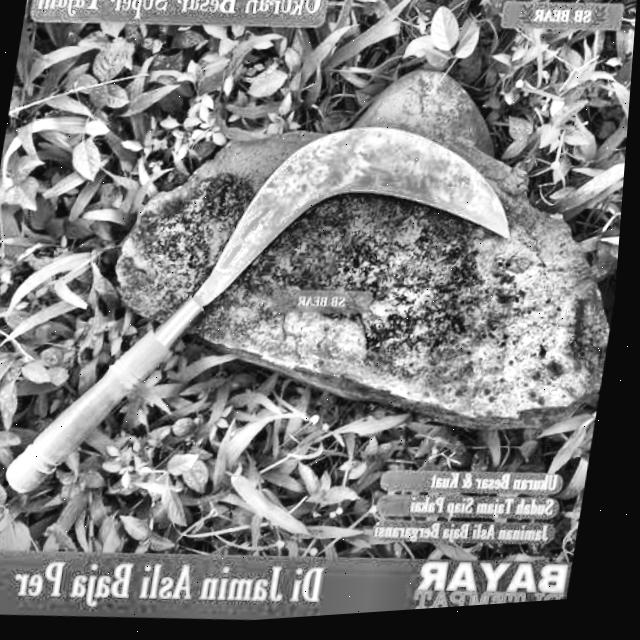celurit: (0, 108, 522, 505)
